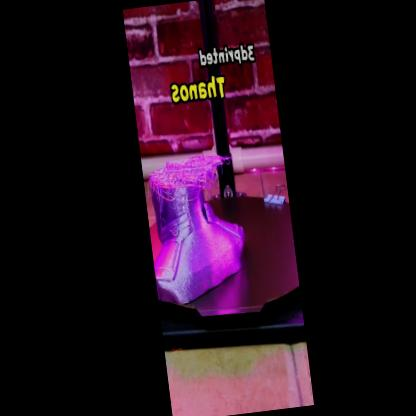fail: (146, 153, 231, 200)
